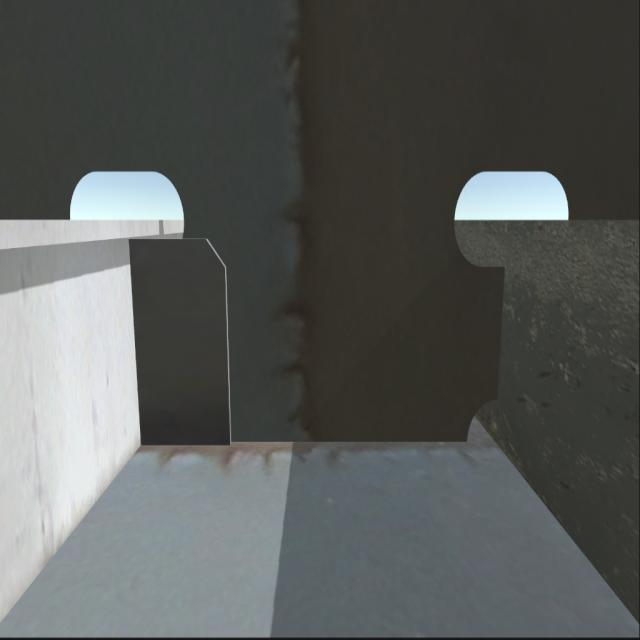fillet_hole: (462, 394, 502, 449)
fillet_yong_jeop_jang: (138, 431, 471, 463)
longi_yong_jeop_jang: (126, 232, 144, 458), (486, 268, 514, 402)
plate_CP03: (136, 232, 228, 445)
